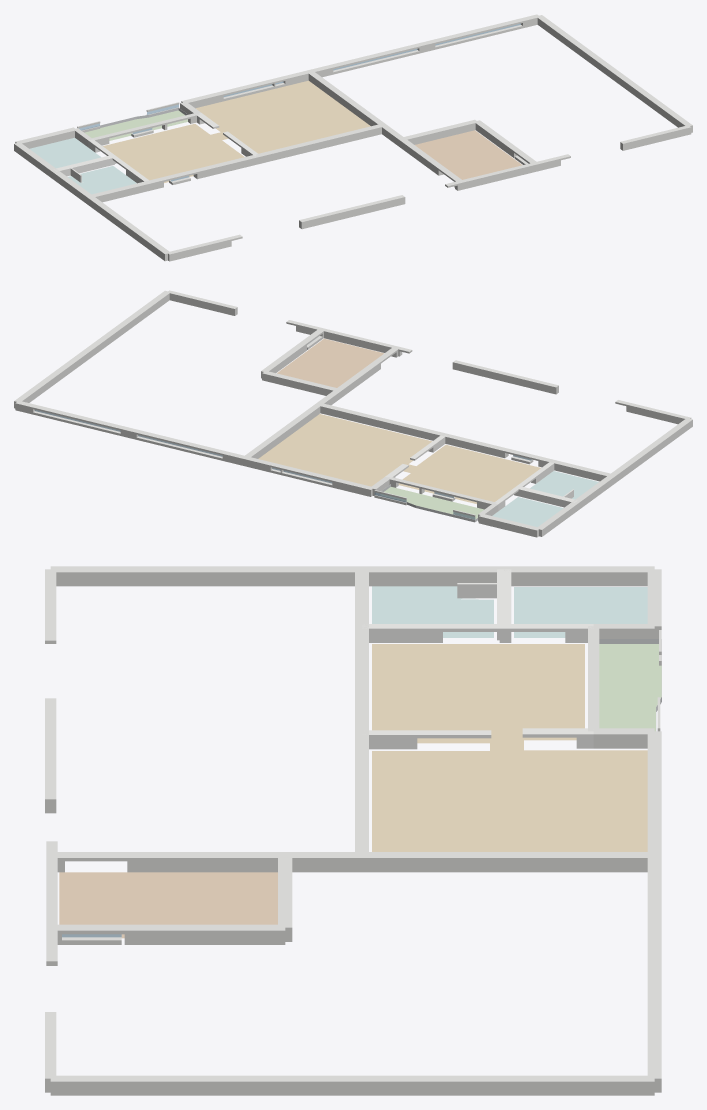
Rendered from Screenshot 2026-10-06 153247_3d.glb.
3 views of the same model, one above another, from view 1: azimuth 30°, elevation 25°; view 2: azimuth 150°, elevation 25°; view 3: azimuth 270°, elevation 25° (orthographic). The views are drawn at different scales.
Visible parts, largest first — view 1: floor_R3_living_89, floor_R5_kitchen_91, wall_W33_72, wall_W11_35, floor_R2_bathroom_88, wall_W17_44, wall_W21_48, floor_R4_bathroom_90, wall_W29_62, floor_R1_balcony_87, wall_W14_39, wall_W12_36 (+15 smaller); view 2: floor_R3_living_89, floor_R5_kitchen_91, wall_W33_72, wall_W11_35, floor_R2_bathroom_88, wall_W17_44, floor_R1_balcony_87, wall_W21_48, floor_R4_bathroom_90, wall_W29_62, wall_W12_36, wall_W18_45 (+15 smaller); view 3: floor_R3_living_89, wall_W33_72, floor_R5_kitchen_91, wall_W21_48, wall_W29_62, floor_R2_bathroom_88, floor_R1_balcony_87, floor_R4_bathroom_90, wall_W32_67, wall_W31_64, wall_W19_46, wall_W20_47 (+15 smaller).
Boxes of the visible parts, x1,y1,x2,y2 form: floor_R3_living_89: (103,80,370,182); floor_R5_kitchen_91: (415,130,522,179); wall_W33_72: (536,15,692,132); wall_W11_35: (256,124,384,163); floor_R2_bathroom_88: (29,137,100,168); wall_W17_44: (299,195,405,229); wall_W21_48: (87,196,170,261); floor_R4_bathroom_90: (68,166,136,194); wall_W29_62: (308,71,385,126); floor_R1_balcony_87: (84,110,187,140); wall_W14_39: (461,162,536,189); wall_W12_36: (401,119,477,144); floor_R3_living_89: (258,414,540,503); floor_R5_kitchen_91: (277,338,383,387); wall_W33_72: (14,290,169,408); wall_W11_35: (320,403,445,440); floor_R2_bathroom_88: (492,497,563,526); wall_W17_44: (452,360,558,394); floor_R1_balcony_87: (380,487,484,519); wall_W21_48: (611,418,692,482); floor_R4_bathroom_90: (530,471,598,499); wall_W29_62: (243,403,321,458); wall_W12_36: (262,371,339,395); wall_W18_45: (167,290,237,315); floor_R3_living_89: (372,644,647,851); wall_W33_72: (50,1075,654,1095); floor_R5_kitchen_91: (59,872,277,938); wall_W21_48: (50,566,361,586); wall_W29_62: (362,852,647,872); floor_R2_bathroom_88: (514,587,647,637); floor_R1_balcony_87: (599,644,661,731); floor_R4_bathroom_90: (372,586,493,637); wall_W32_67: (124,924,285,944); wall_W31_64: (127,852,285,872); wall_W19_46: (504,566,654,586); wall_W20_47: (362,566,503,586).
Size of the model in its own units: 214 by 2.75 by 109.
